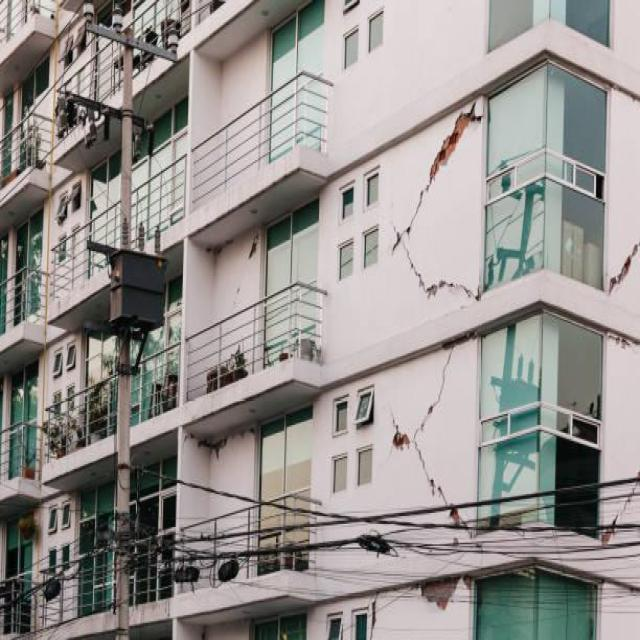damage: (380, 118, 500, 258), (365, 233, 495, 320), (396, 326, 492, 443), (406, 441, 495, 557), (586, 442, 640, 558), (405, 568, 499, 634), (589, 223, 640, 295)
